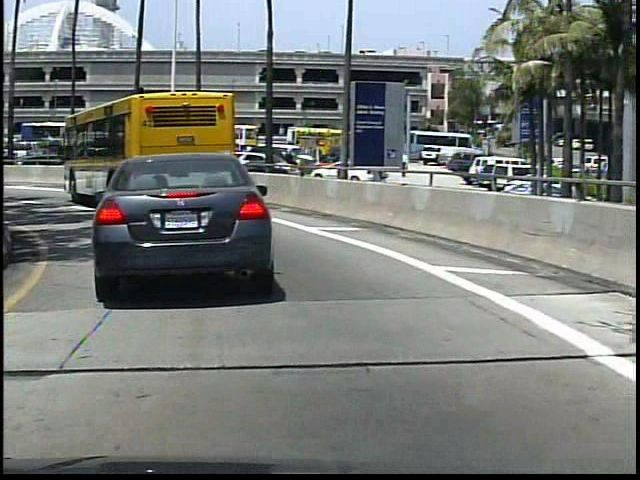person: (281, 145, 297, 180), (391, 149, 409, 180)
